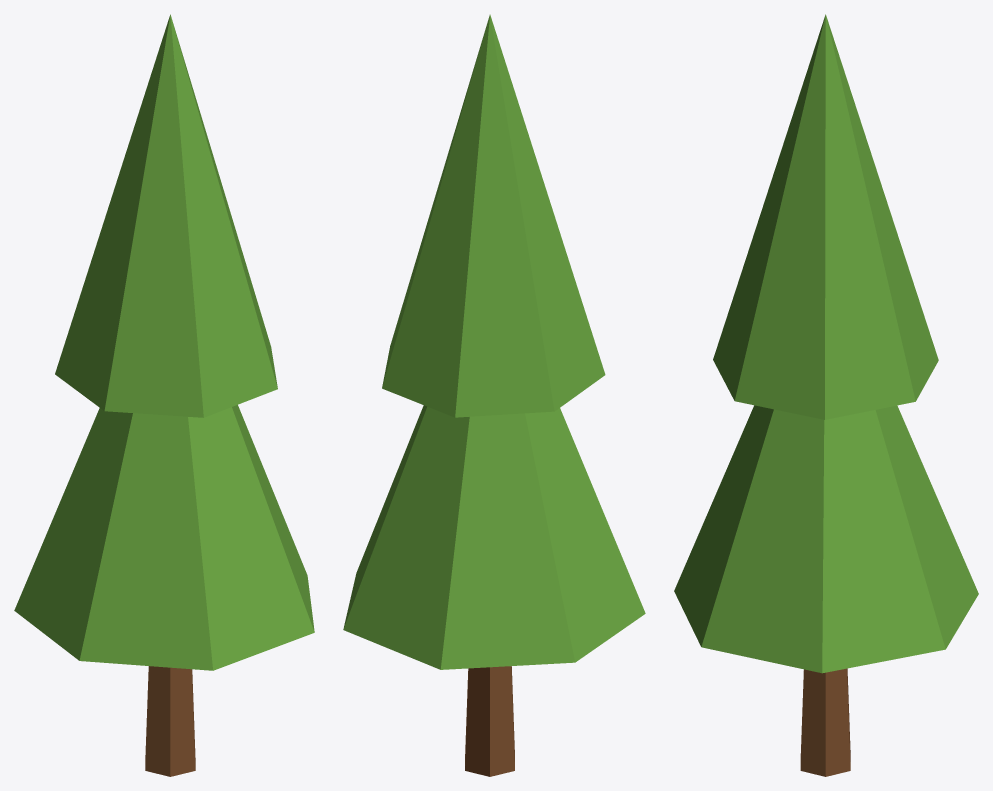
Rendered from tree_cone.glb.
3 renders of one model, left to right at view 1: azimuth 30°, elevation 25°; view 2: azimuth 150°, elevation 25°; view 3: azimuth 270°, elevation 25°, orthographic.
Parts seen in each view (by area): view 1: tree_cone; view 2: tree_cone; view 3: tree_cone.
Boxes of the visible parts, x1=… form: tree_cone: x1=14, y1=14, x2=314, y2=776; tree_cone: x1=343, y1=14, x2=645, y2=776; tree_cone: x1=674, y1=14, x2=978, y2=776.
Size of the model in its own units: 0.5157 by 1.43 by 0.5263.
Materials: 1 (1 with a texture image).
